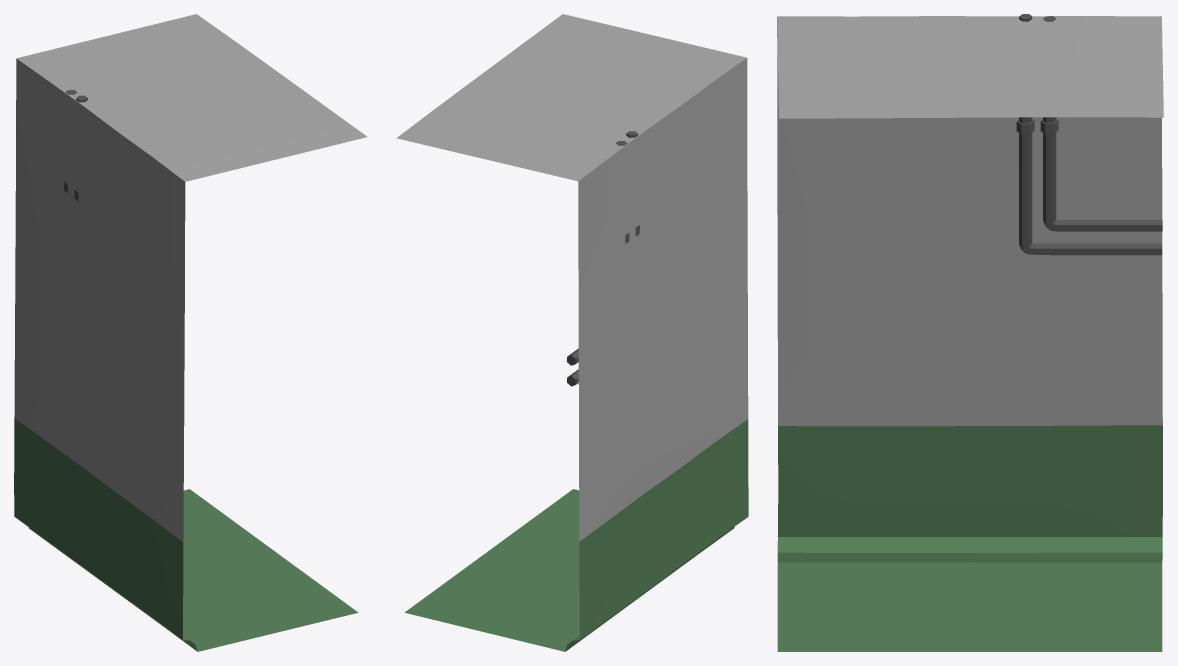
File: Mapa4.fbx
3 renders of one model, left to right at view 1: azimuth 30°, elevation 25°; view 2: azimuth 150°, elevation 25°; view 3: azimuth 270°, elevation 25°, orthographic. The views are drawn at different scales.
Visible parts, largest first — view 1: pPlane12; view 2: pPlane12; view 3: pPlane12.
Boxes of the visible parts, left/top/right/bottom form: pPlane12: left=14, top=14, right=367, bottom=651; pPlane12: left=396, top=14, right=748, bottom=651; pPlane12: left=777, top=14, right=1163, bottom=651.
Size of the model in its own units: 20.44 by 50.2 by 32.44.
